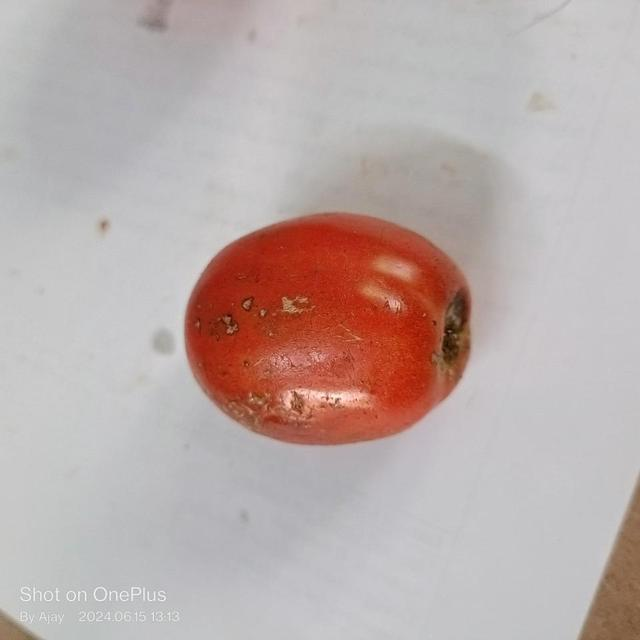Bacterial Spot Fruit: (60, 32, 181, 270)
